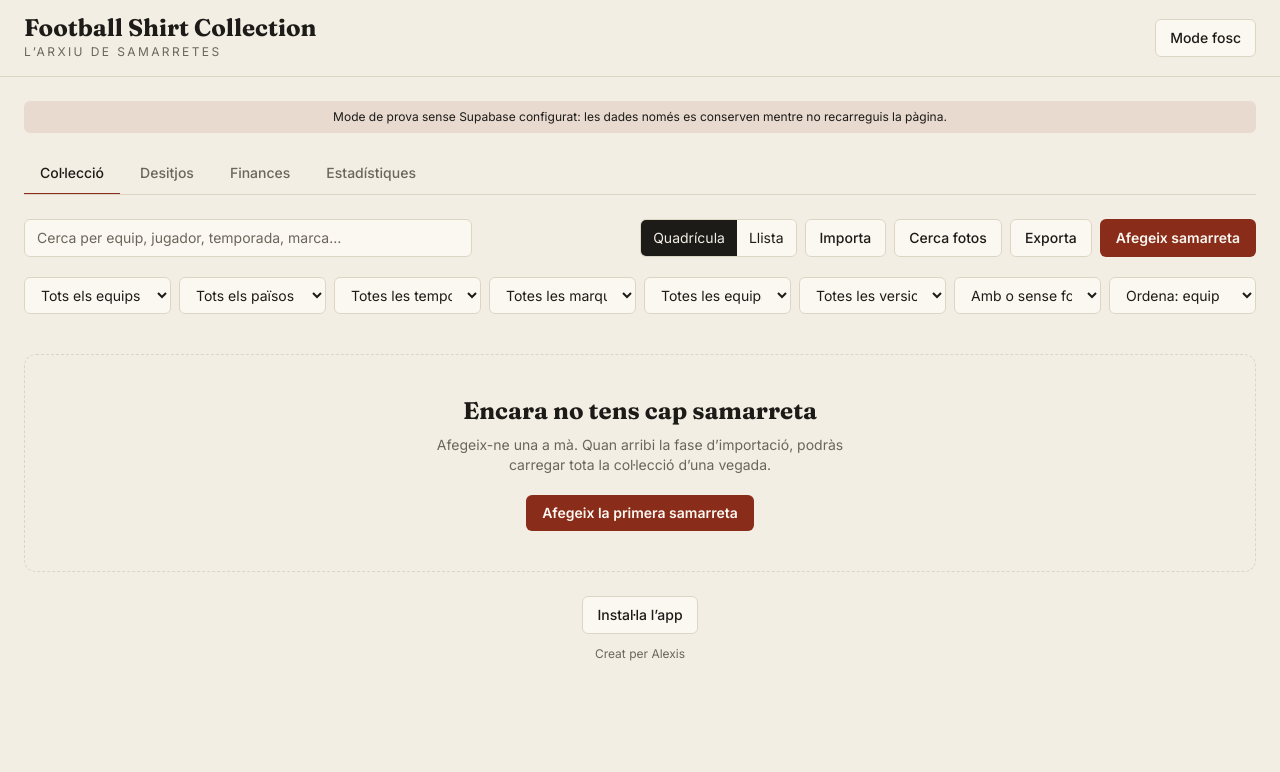
Test: Catàleg › crea una samarreta des del formulari
The image size is (1280, 772).
Click the button "Afegeix samarreta".
click(1178, 238)  # box [1100, 219, 1256, 257]
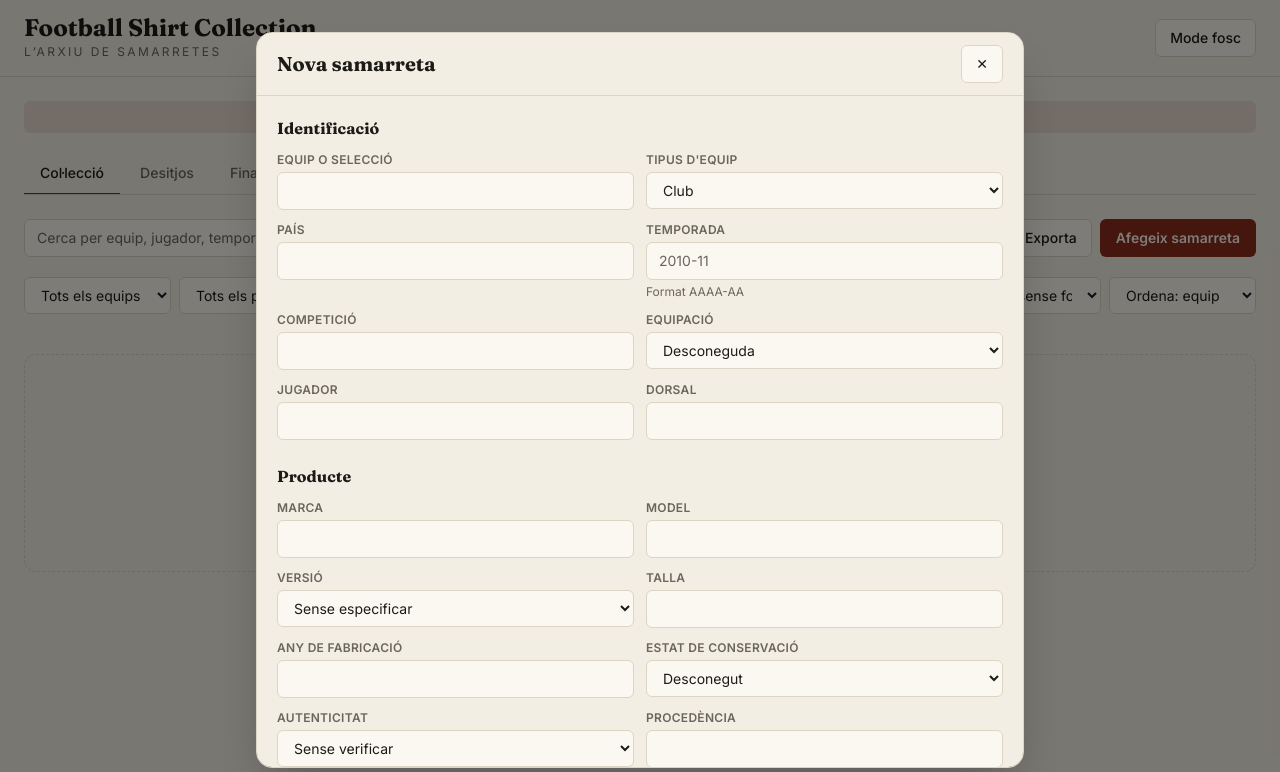
Type "Girona" into the field labelled "Equip o selecció".
click(456, 191); type("Girona")  # box [277, 172, 634, 210]
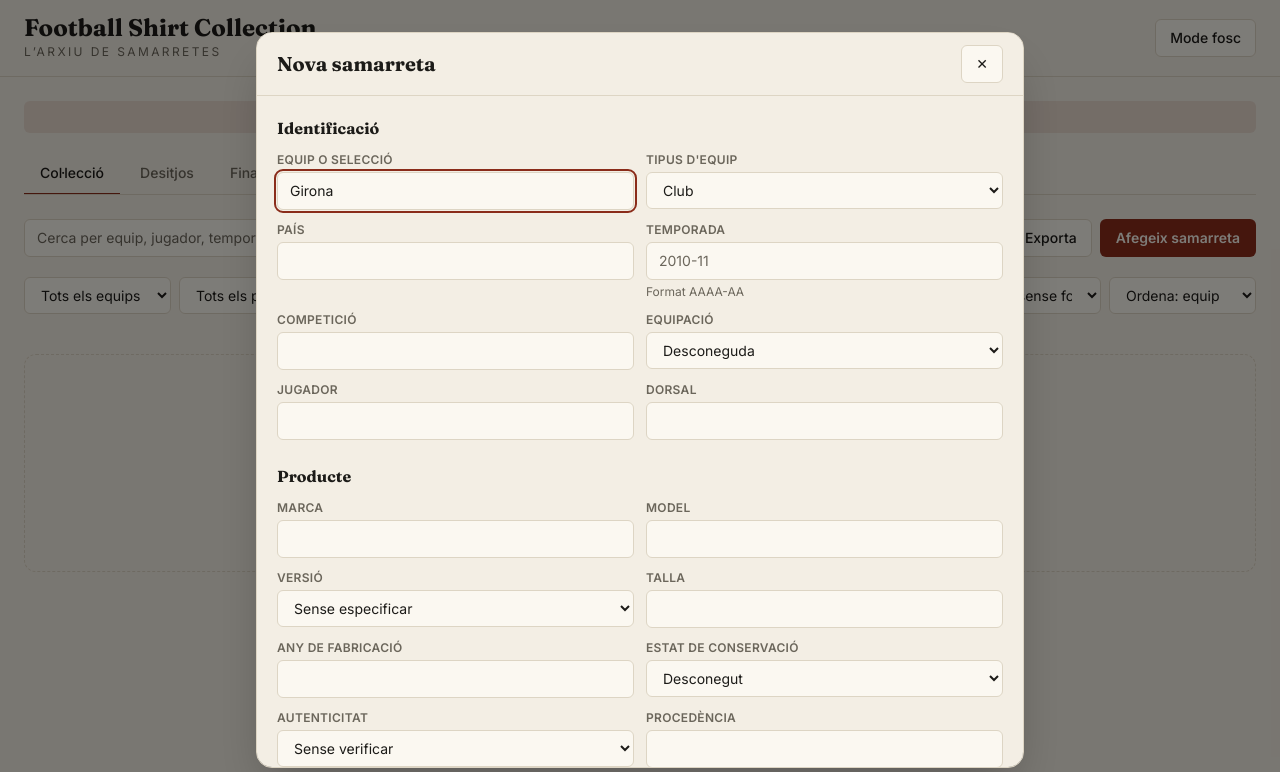
Type "2017-18" into the field labelled "Temporada".
click(824, 261); type("2017-18")  # box [646, 242, 1003, 280]
(page scrolled)
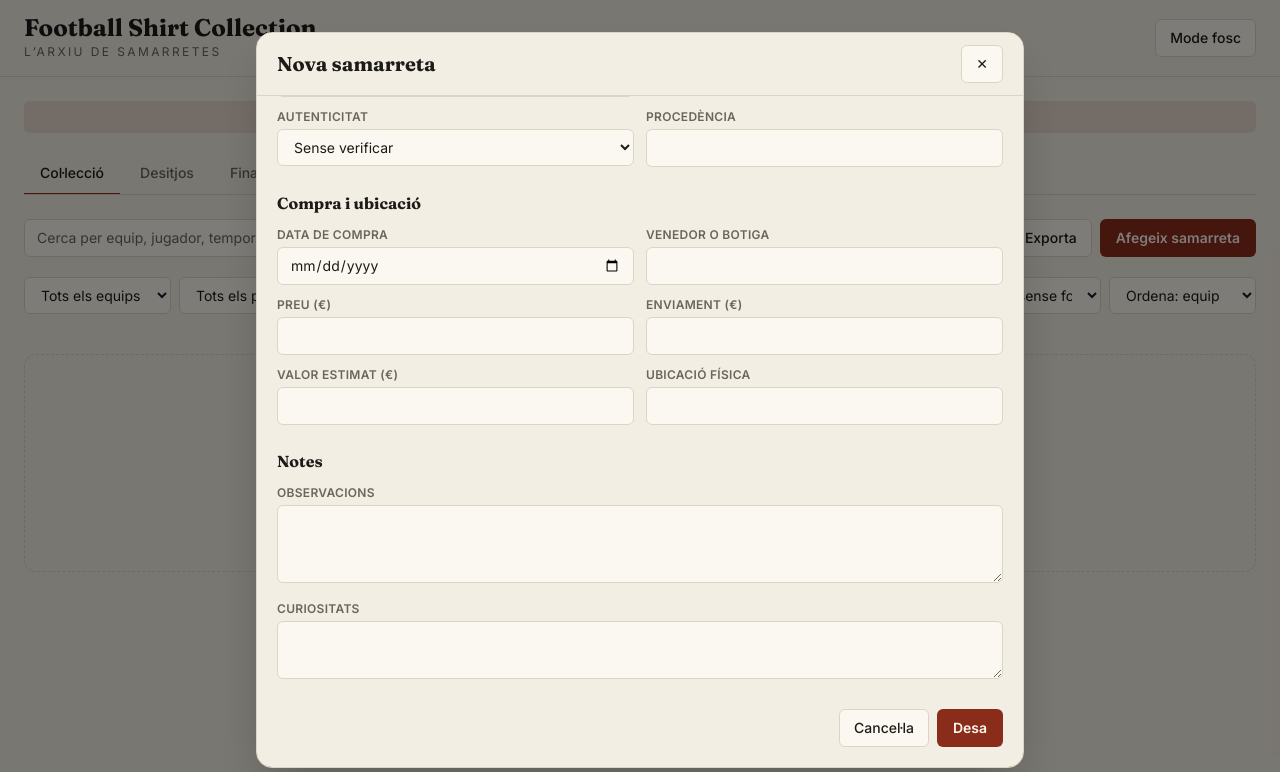
Click the button "Desa".
click(970, 728)  # box [937, 709, 1003, 747]
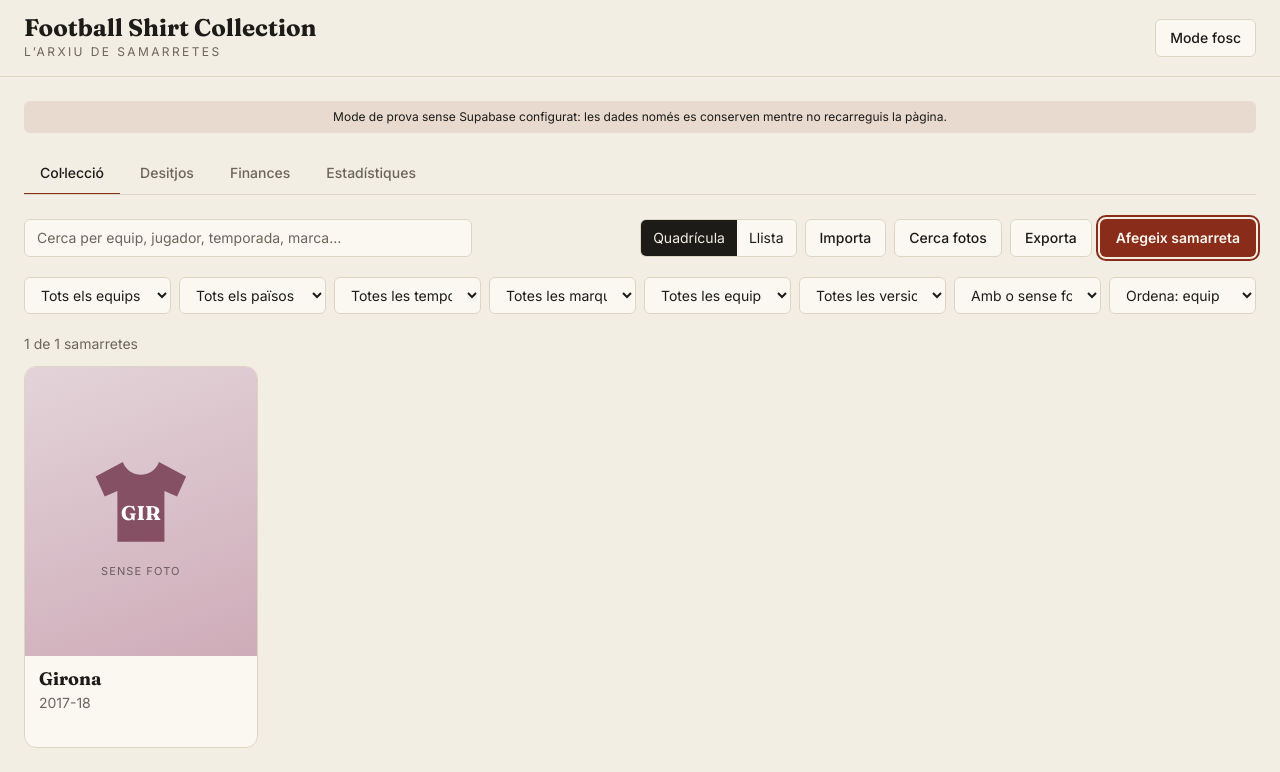
Expected: the button "GIR Sense foto Girona 2017-18" is shown, [24, 366, 258, 748]
Expected: the dialog is gone
